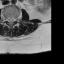CCS_normal: (9, 14, 12, 26)
LFS_normal: (14, 14, 17, 23)
LLS_normal: (12, 14, 14, 25)
RFS_normal: (4, 14, 6, 23)
RLS_normal: (6, 14, 9, 24)
